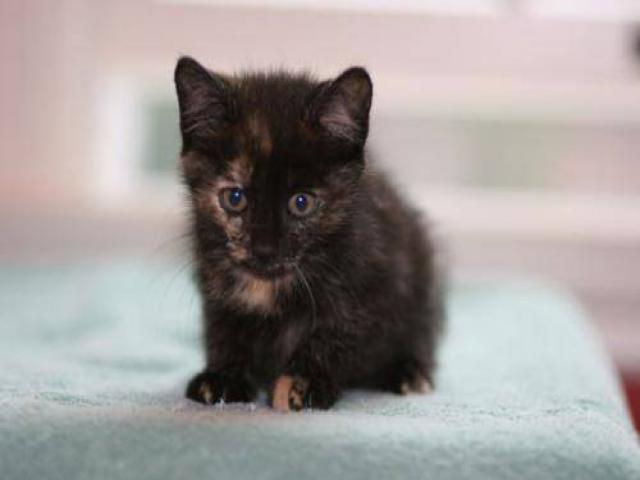cat: (164, 43, 451, 411)
